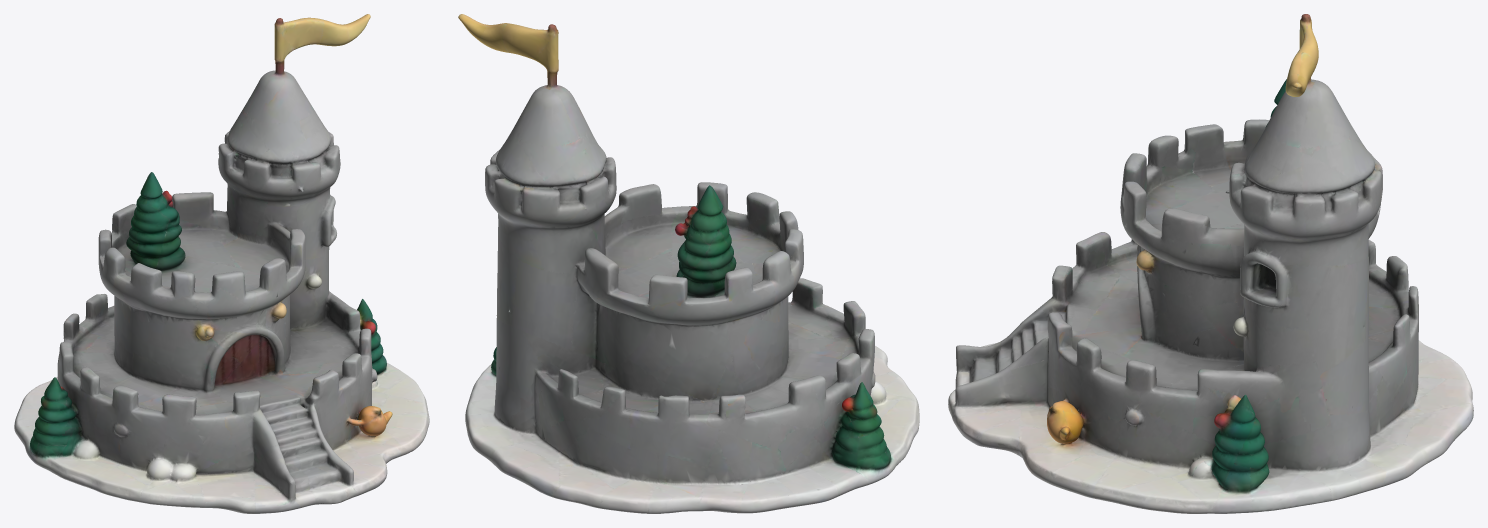
The model's file is castle-alt--kfpoKGm.glb.
3 renders of one model, left to right at view 1: azimuth 30°, elevation 25°; view 2: azimuth 150°, elevation 25°; view 3: azimuth 270°, elevation 25°, orthographic. The views are drawn at different scales.
Size of the model in its own units: 1.98 by 1.88 by 2.
1 material, 1 textured.
